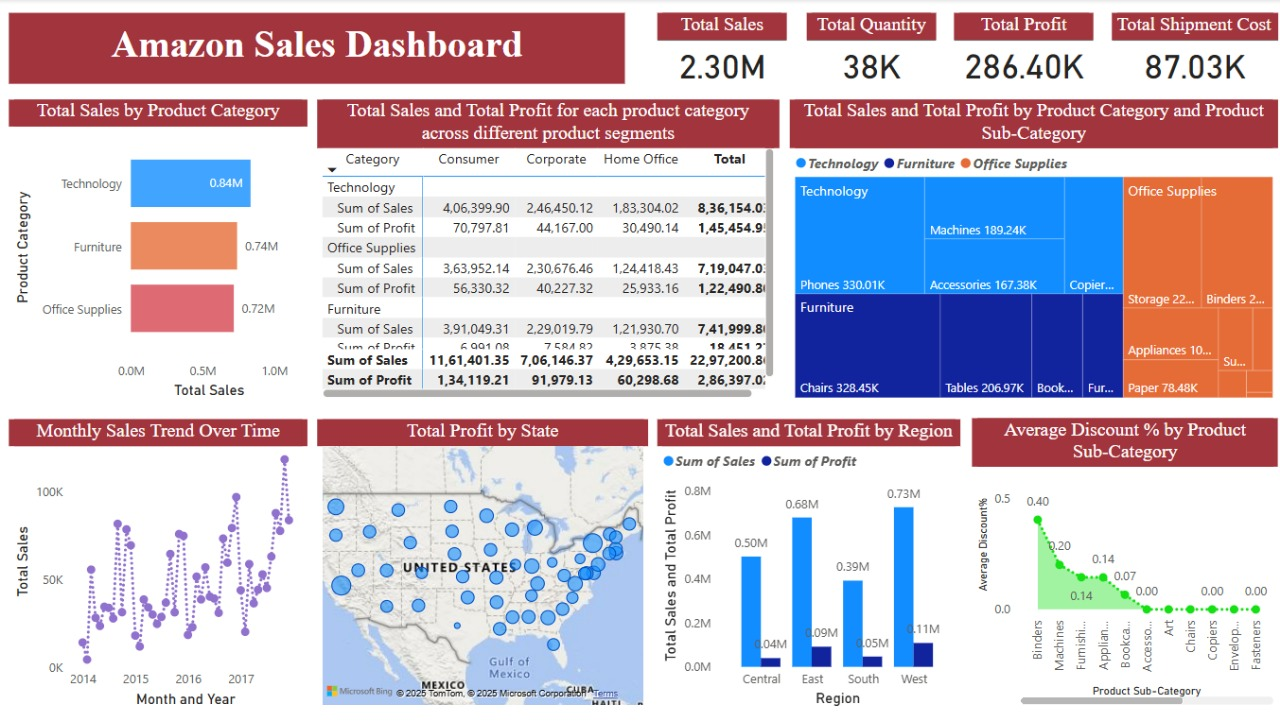

The dashboard page shown, as its layout file describes it:
{"tool":"powerbi","page":{"name":"Page 1","canvas":[1280,720],"ordinal":0},"visuals":[{"type":"card","title":"Total Sales","fields":{"Values":["Sum(Orders.Sales)"]},"box":[655.8,13.4,128.5,78.6],"z":0},{"type":"textbox","box":[11.6,13.4,611.6,70.7],"z":1000},{"type":"card","title":"Total Quantity","fields":{"Values":["Sum(Orders.Quantity)"]},"box":[803.5,13.4,128.5,77.7],"z":2000},{"type":"card","title":"Total Profit","fields":{"Values":["Sum(Orders.Profit)"]},"box":[950.1,13.4,138.8,77.9],"z":3000},{"type":"card","title":"Total Shipment Cost","fields":{"Values":["Sum(Orders.Shipment Cost)"]},"box":[1106.5,13.4,164.9,77.7],"z":4000},{"type":"barChart","title":"Total Sales by Product Category","fields":{"Category":["Orders.Category"],"Y":["Sum(Orders.Sales)"]},"box":[11.6,100.3,296.4,301.8],"z":5000},{"type":"lineChart","title":"Monthly Sales Trend Over Time","fields":{"Y":["Sum(Orders.Sales)"],"Category":["Orders.Order Date.Variation.Date Hierarchy.Year","Orders.Order Date.Variation.Date Hierarchy.Month"]},"box":[11.6,417.3,296.4,291],"z":6000},{"type":"map","title":"Total Profit by State","fields":{"Category":["Orders.State"],"Size":["Sum(Orders.Profit)"]},"box":[317.9,417.3,328.7,289.3],"z":7000},{"type":"treemap","title":"Total Sales and Total Profit by Product Category and Product Sub-Category","fields":{"Group":["Orders.Category"],"Values":["Sum(Orders.Sales)"],"Details":["Orders.Sub-Category"]},"box":[787.2,100.3,484.5,301.8],"z":8000},{"type":"pivotTable","title":"Total Sales and Total Profit for each product category across different product segments","fields":{"Rows":["Orders.Category"],"Values":["Sum(Orders.Sales)","Sum(Orders.Profit)"],"Columns":["Orders.Segment"]},"box":[317.9,100.3,458.5,301.8],"z":9000},{"type":"areaChart","title":"Average Discount % by Product Sub-Category","fields":{"Category":["Orders.Sub-Category"],"Y":["Avg(Orders.Discount %)"]},"box":[967.4,417.1,303.9,289.6],"z":10000},{"type":"clusteredColumnChart","title":"Total Sales and Total Profit by Region ","fields":{"Category":["Orders.Region","Orders.State","Orders.City"],"Y":["Sum(Orders.Sales)","Sum(Orders.Profit)"]},"box":[655.5,417.3,300.9,291],"z":11000}]}

Visuals, with their boxes in screenshot pixels (x1, y1, x2, y2), scaled from the page's 1280x720 canvas onto the 1280x721 screenshot:
"Total Sales" card: bbox=[656, 13, 784, 92]
textbox: bbox=[12, 13, 623, 84]
"Total Quantity" card: bbox=[804, 13, 932, 91]
"Total Profit" card: bbox=[950, 13, 1089, 91]
"Total Shipment Cost" card: bbox=[1106, 13, 1271, 91]
"Total Sales by Product Category" barChart: bbox=[12, 100, 308, 403]
"Monthly Sales Trend Over Time" lineChart: bbox=[12, 418, 308, 709]
"Total Profit by State" map: bbox=[318, 418, 647, 708]
"Total Sales and Total Profit by Product Category and Product Sub-Category" treemap: bbox=[787, 100, 1272, 403]
"Total Sales and Total Profit for each product category across different product segments" pivotTable: bbox=[318, 100, 776, 403]
"Average Discount % by Product Sub-Category" areaChart: bbox=[967, 418, 1271, 708]
"Total Sales and Total Profit by Region " clusteredColumnChart: bbox=[656, 418, 956, 709]
